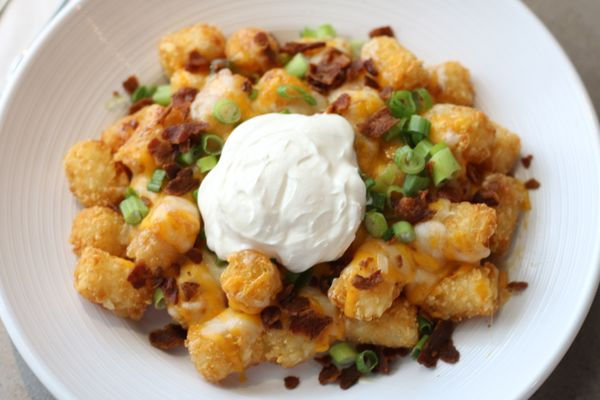sushi: (1, 0, 596, 394)
